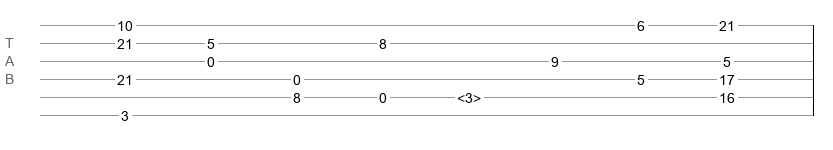0: (207, 54, 215, 64), (293, 72, 301, 82), (379, 90, 387, 100)
10: (117, 18, 133, 28)
16: (719, 90, 735, 100)
17: (719, 72, 735, 82)
21: (117, 36, 133, 46), (117, 72, 133, 82), (719, 18, 735, 28)
3: (121, 108, 129, 118)
5: (207, 36, 215, 46), (637, 72, 645, 82), (723, 54, 731, 64)
6: (637, 18, 645, 28)
8: (293, 90, 301, 100), (379, 36, 387, 46)
9: (551, 54, 559, 64)
harmonic: (457, 90, 481, 100)
